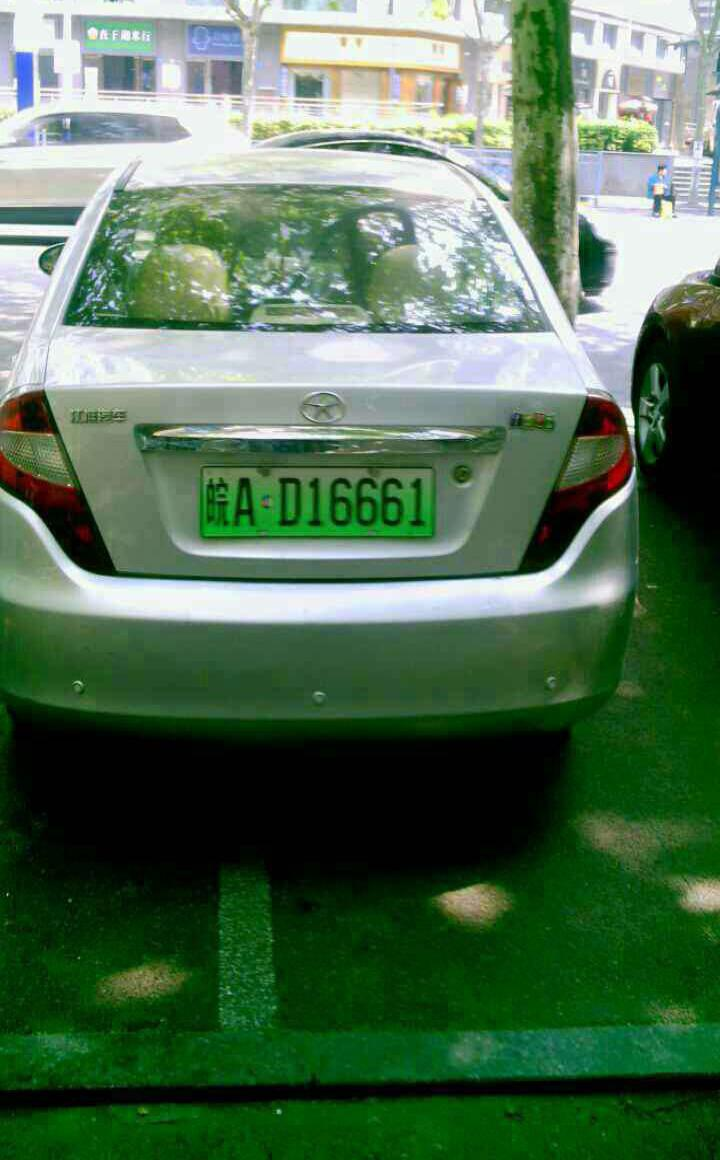car_id: (200, 467, 434, 534)
